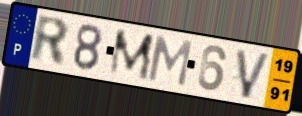6: (196, 44, 229, 94)
8: (72, 22, 103, 73)
M: (106, 28, 156, 83), (146, 34, 195, 89)
R: (29, 12, 71, 69)
V: (234, 47, 273, 101)
